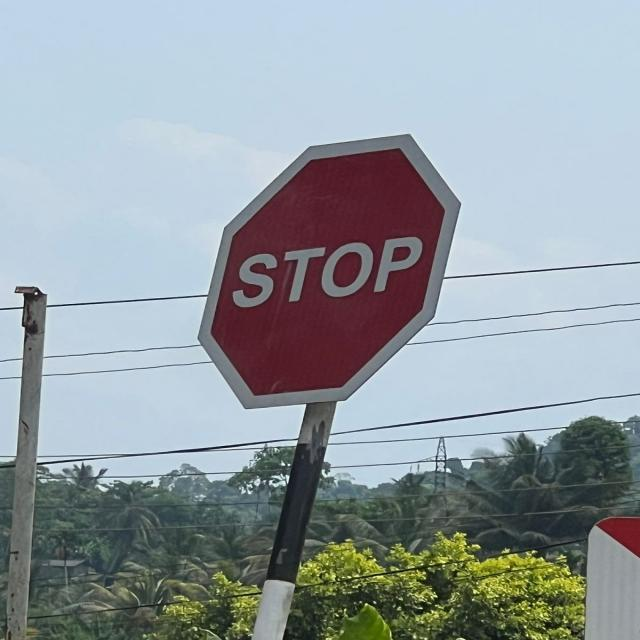stop: (190, 130, 466, 413)
